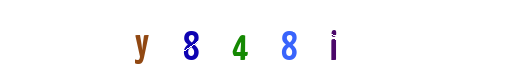4: (200, 0, 280, 80)
8: (194, 0, 274, 80), (213, 0, 293, 80)
I: (238, 0, 318, 80)
Y: (107, 0, 187, 80)
